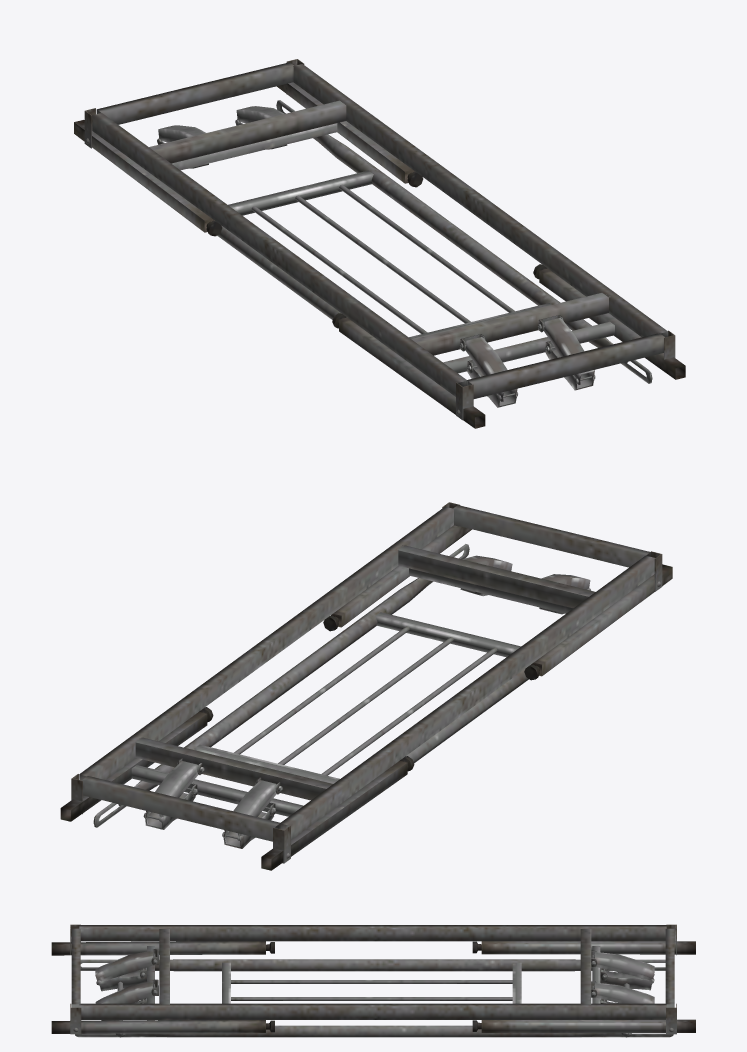
Rendered from 004_FoldingTable.fbx.
3 views of the same model, one above another, from view 1: azimuth 30°, elevation 25°; view 2: azimuth 150°, elevation 25°; view 3: azimuth 270°, elevation 25° (orthographic). The views are drawn at different scales.
Parts seen in each view (by area): view 1: LOD_1_Group_0_Sub_1__sm30_004_FoldingTable02A_A_Mat; view 2: LOD_1_Group_0_Sub_1__sm30_004_FoldingTable02A_A_Mat; view 3: LOD_1_Group_0_Sub_1__sm30_004_FoldingTable02A_A_Mat.
Boxes of the visible parts, x1=… form: LOD_1_Group_0_Sub_1__sm30_004_FoldingTable02A_A_Mat: x1=74, y1=59, x2=685, y2=428; LOD_1_Group_0_Sub_1__sm30_004_FoldingTable02A_A_Mat: x1=60, y1=502, x2=672, y2=870; LOD_1_Group_0_Sub_1__sm30_004_FoldingTable02A_A_Mat: x1=51, y1=924, x2=695, y2=1037.
Bounding box in the file's own units: 0.7692 × 0.1739 × 2.19.
